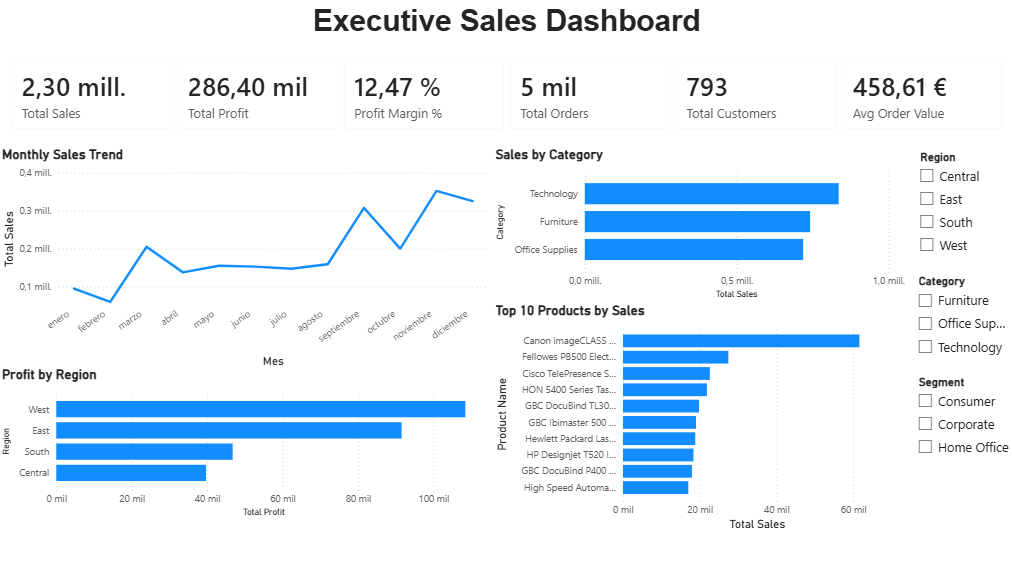

This screenshot's page, from the dashboard's own definition file:
{"tool":"powerbi","page":{"name":"Página 1","canvas":[1280,720],"ordinal":0},"visuals":[{"type":"cardVisual","fields":{"Data":["public stg_superstore.Total Sales","public stg_superstore.Total Profit","public stg_superstore.Profit Margin %","public stg_superstore.Total Orders","public stg_superstore.Total Customers","public stg_superstore.Average Order Value"]},"box":[0,58,1280,122],"z":0},{"type":"lineChart","title":"Monthly Sales Trend","fields":{"Y":["public stg_superstore.Total Sales"],"Category":["public stg_superstore.order_date.Variación.Jerarquía de fechas.Año","public stg_superstore.order_date.Variación.Jerarquía de fechas.Trimestre","public stg_superstore.order_date.Variación.Jerarquía de fechas.Mes","public stg_superstore.order_date.Variación.Jerarquía de fechas.Día"]},"box":[0,185,620,282.5],"z":1000},{"type":"clusteredBarChart","title":"Sales by Category","fields":{"Category":["public stg_superstore.category"],"Y":["public stg_superstore.Total Sales"]},"box":[620,185,525,196.7],"z":2000},{"type":"slicer","fields":{"Values":["public stg_superstore.region"]},"box":[1146.7,185,133.3,156.7],"z":3000},{"type":"slicer","fields":{"Values":["public stg_superstore.segment"]},"box":[1145,468.3,135,136.7],"z":4000},{"type":"slicer","fields":{"Values":["public stg_superstore.category"]},"box":[1145,341.7,133.3,126.7],"z":5000},{"type":"clusteredBarChart","title":"Profit by Region","fields":{"Category":["public stg_superstore.region"],"Y":["public stg_superstore.Total Profit"]},"box":[0,461.7,620,193.3],"z":6000},{"type":"clusteredBarChart","title":"Top 10 Products by Sales","fields":{"Category":["public stg_superstore.product_name"],"Y":["public stg_superstore.Total Sales"]},"box":[620,381.7,525,291.7],"z":7000},{"type":"textbox","box":[0,0,1280,57.5],"z":8000}]}

Visuals, with their boxes in screenshot pixels (x1, y1, x2, y2), scaled from the page's 1280x720 canvas onto the 1012x567 screenshot:
cardVisual - public stg_superstore.Total Sales x public stg_superstore.Total Profit: left=0, top=46, right=1011, bottom=142
"Monthly Sales Trend" lineChart: left=0, top=146, right=490, bottom=368
"Sales by Category" clusteredBarChart: left=490, top=146, right=905, bottom=301
slicer - public stg_superstore.region: left=907, top=146, right=1011, bottom=269
slicer - public stg_superstore.segment: left=905, top=369, right=1011, bottom=476
slicer - public stg_superstore.category: left=905, top=269, right=1011, bottom=369
"Profit by Region" clusteredBarChart: left=0, top=364, right=490, bottom=516
"Top 10 Products by Sales" clusteredBarChart: left=490, top=301, right=905, bottom=530
textbox: left=0, top=0, right=1011, bottom=45
